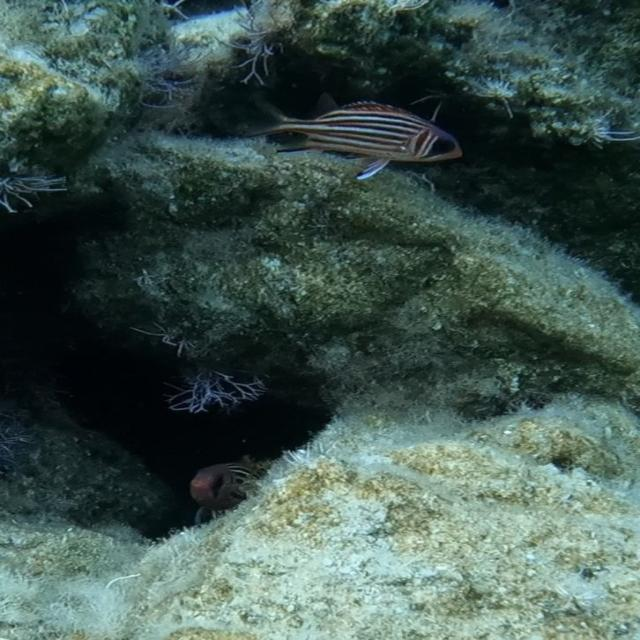Asker Baligi: (237, 94, 465, 182)
